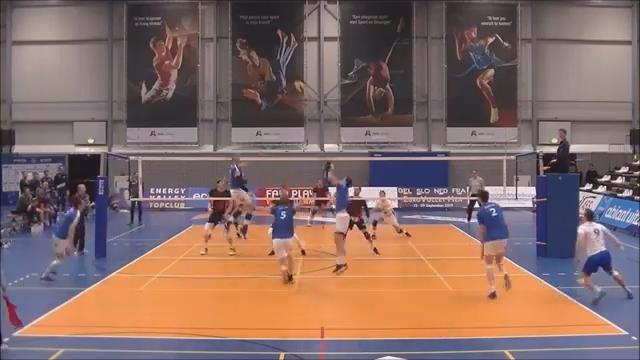Player: (575, 209, 632, 303), (40, 195, 83, 281), (477, 190, 510, 298), (200, 180, 231, 254), (271, 192, 295, 283), (347, 187, 379, 254), (372, 190, 410, 239), (229, 157, 252, 237), (307, 180, 330, 225), (292, 232, 306, 255)
Set: (324, 168, 353, 277)
ball: (295, 80, 305, 93)
